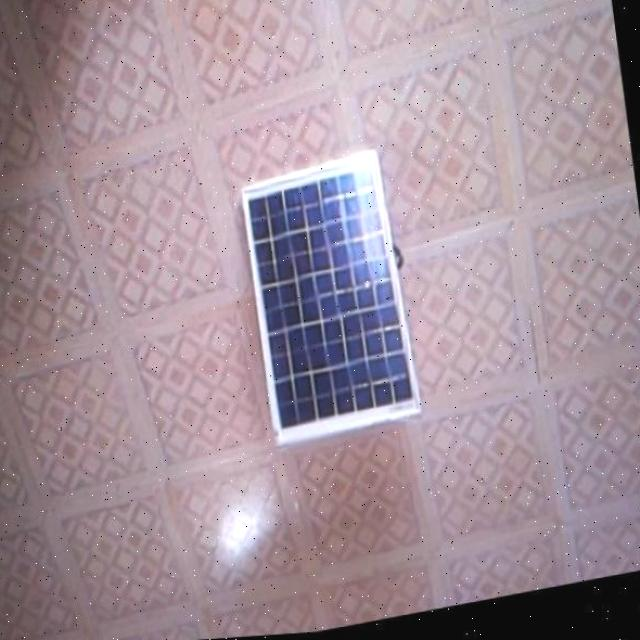Normal Solar Panel: (241, 152, 422, 449)
